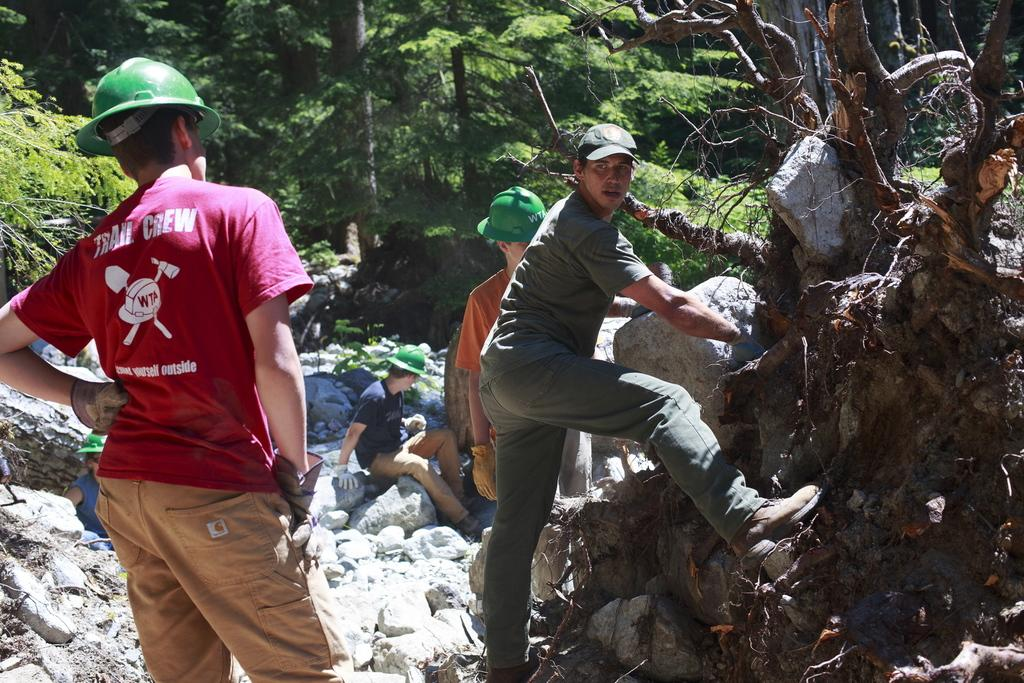helmet: (74, 57, 222, 180), (477, 186, 554, 269), (77, 432, 123, 478), (386, 346, 427, 390)
nohelmet: (573, 124, 641, 213)
